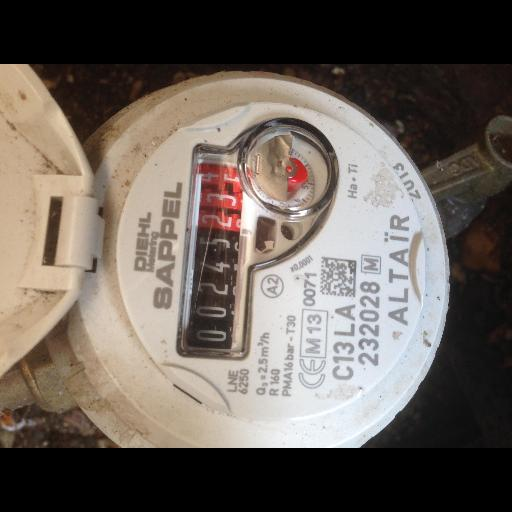0: (190, 300, 235, 327), (189, 323, 233, 349)
2: (193, 277, 237, 304), (198, 207, 242, 231)
3: (199, 187, 244, 212)
4: (197, 164, 246, 189), (194, 257, 238, 282)
5: (196, 228, 241, 261)
border_water_meter_number: (177, 144, 262, 356)
